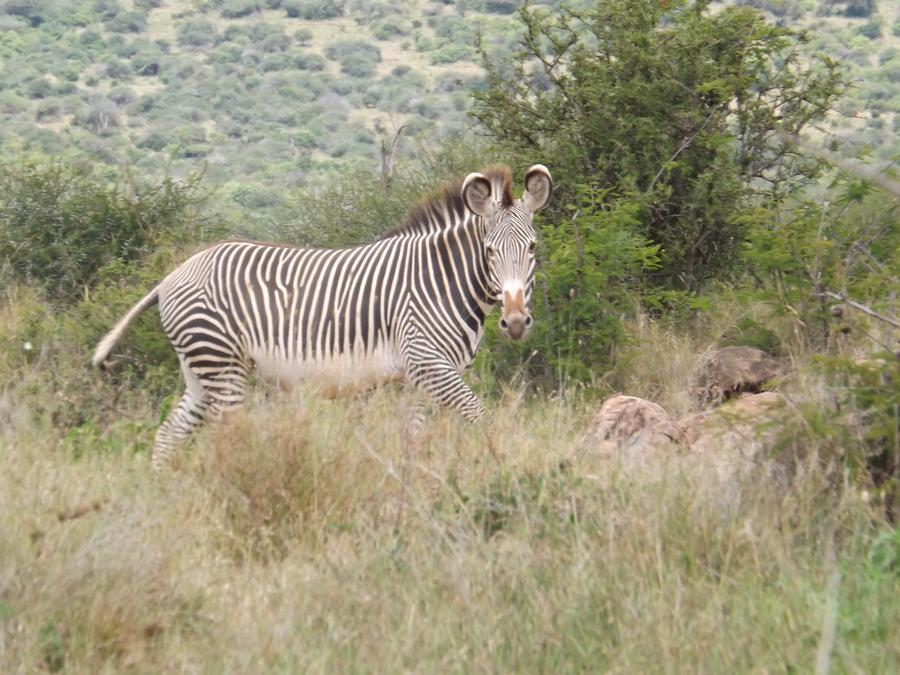zebra_grevys: (156, 242, 469, 367)
